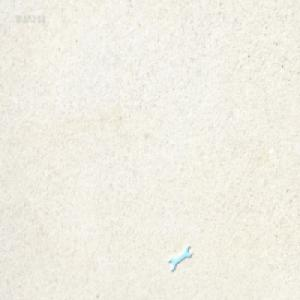Wrench: (169, 241, 193, 268)
